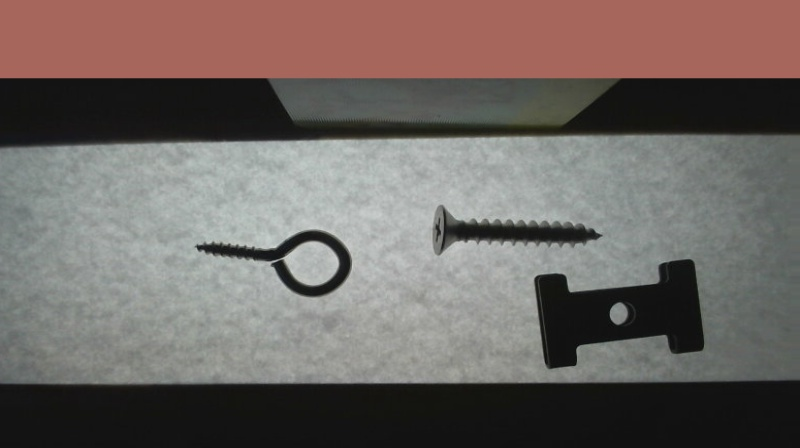O001: (191, 227, 356, 299)
O002: (526, 254, 707, 370)
S001: (429, 199, 604, 256)
